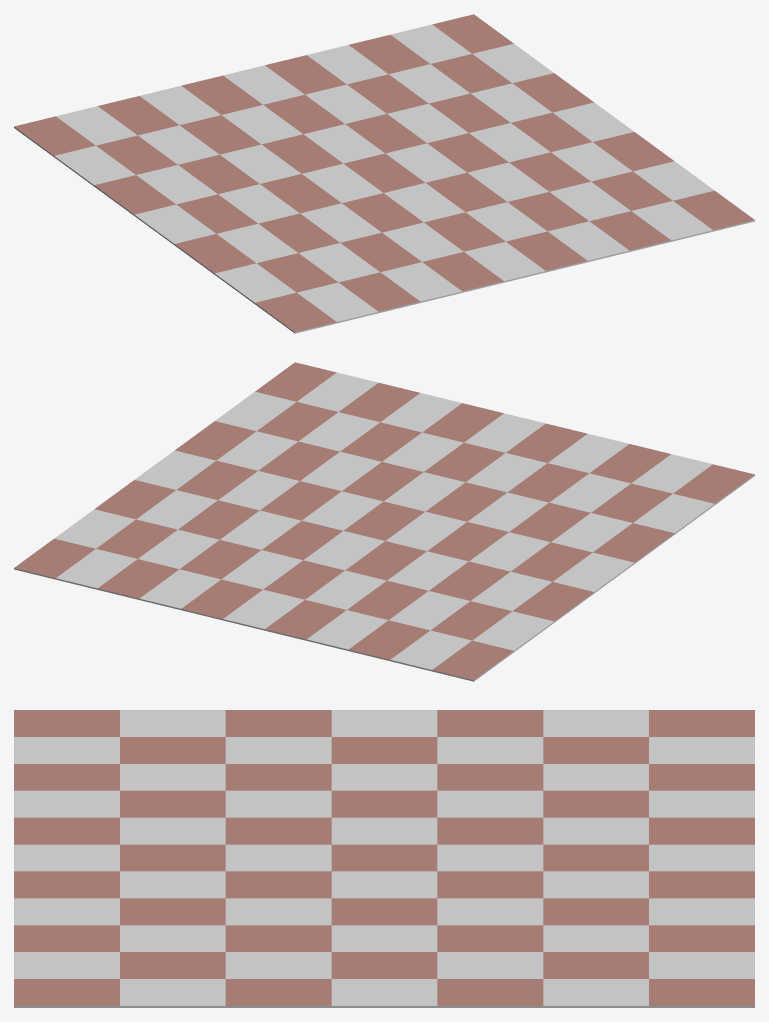
The model's file is koc2.fbx.
3 views of the same model, one above another, from view 1: azimuth 30°, elevation 25°; view 2: azimuth 150°, elevation 25°; view 3: azimuth 270°, elevation 25° (orthographic). The views are drawn at different scales.
Visible parts, largest first — view 1: koc2; view 2: koc2; view 3: koc2.
Part boxes in pixels (x1,y1,x2,y2): koc2: [14, 14, 754, 333]; koc2: [14, 362, 754, 681]; koc2: [14, 710, 754, 1007].
Bounding box in the file's own units: 325 × 307 × 0.9519.
